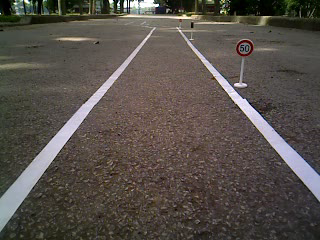limit 50: (235, 37, 254, 59)
